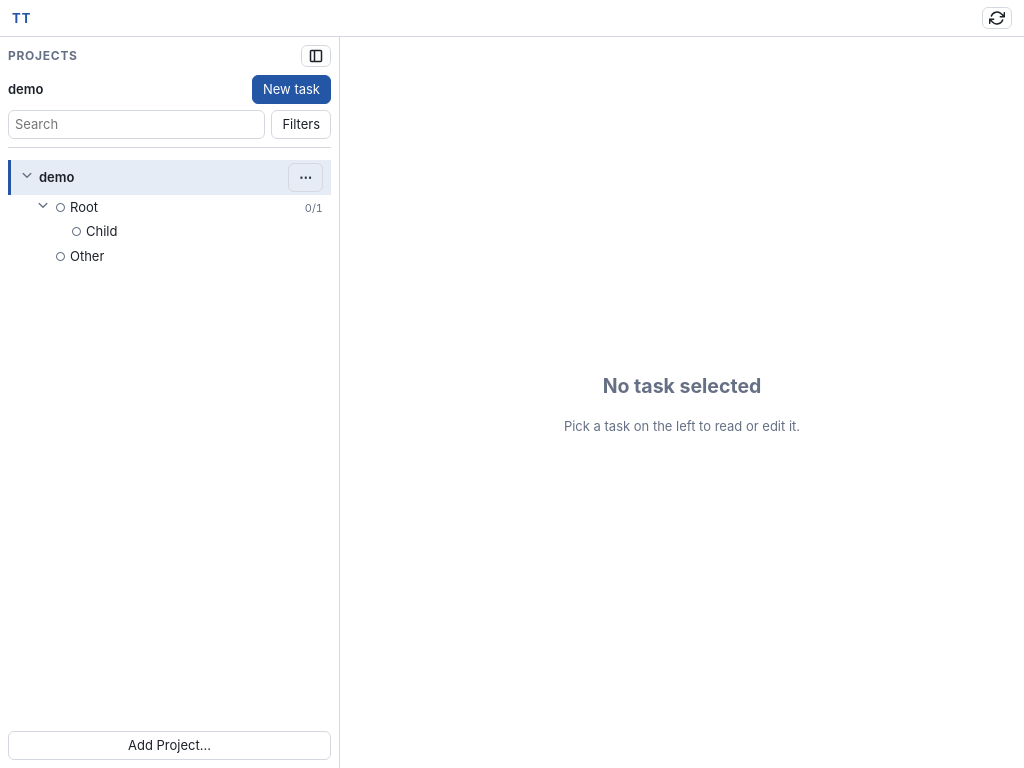
Test: App › searches project-scoped titles, keeping ancestors as context
Expected: the text "Other" is shown, [70,247,104,266]
Step 1. Type "child" into the field named "Search tasks" → [137, 124], box [8,110,265,139]
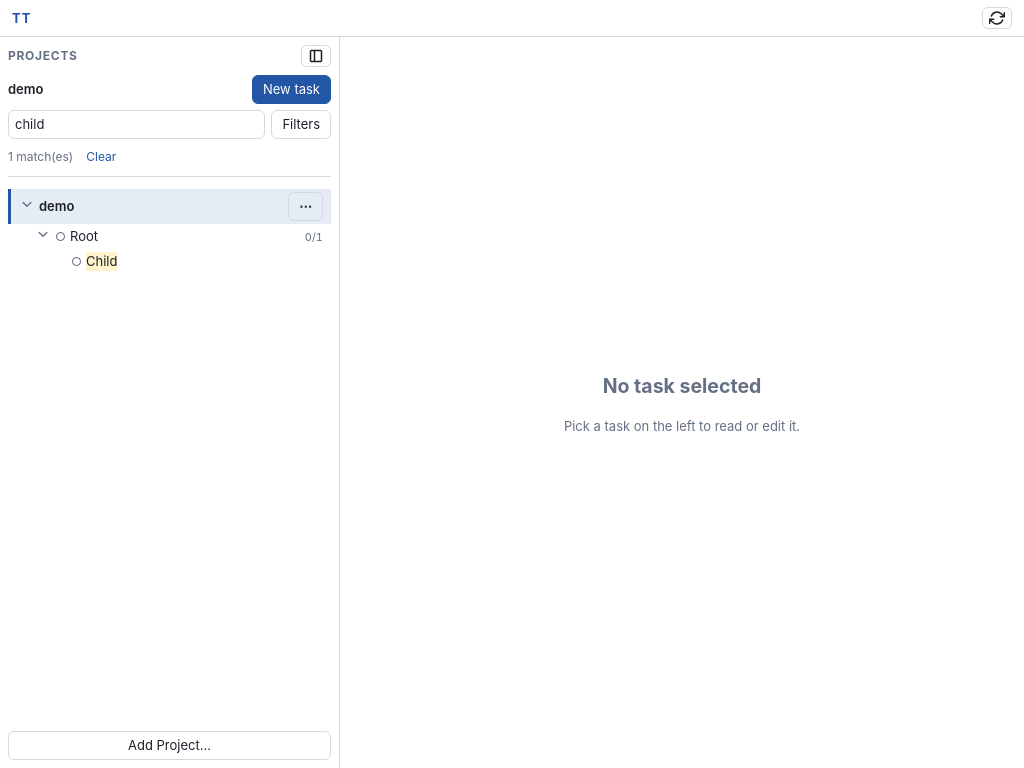
Expected: the text "Child" is shown, [86,252,118,271]
Now the text "1 match(es)" is shown, box [8,148,73,165]
Now the text "Other" is gone
